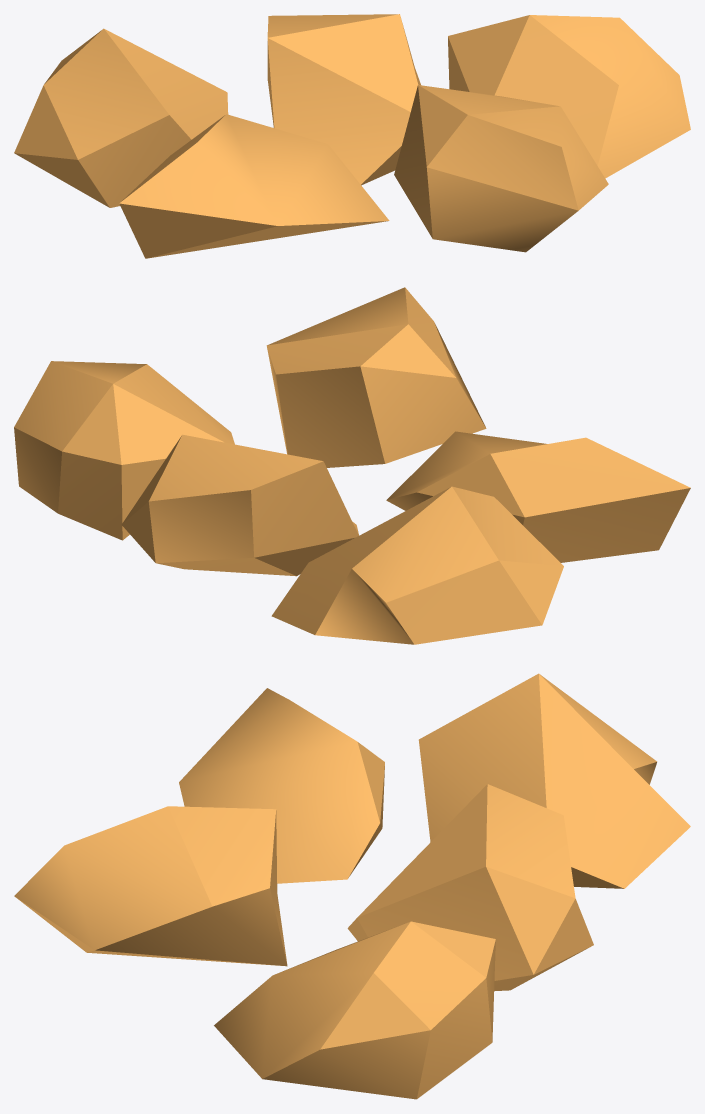
Rendered from collectable_ore.fbx.
The picture shows the model from 3 angles, top to bottom: view 1: azimuth 30°, elevation 25°; view 2: azimuth 150°, elevation 25°; view 3: azimuth 270°, elevation 25°; orthographic projection. The views are drawn at different scales.
Visible parts, largest first — view 1: Copper Ore Visual; view 2: Copper Ore Visual; view 3: Copper Ore Visual.
Boxes of the visible parts, x1=… form: Copper Ore Visual: x1=14, y1=14, x2=690, y2=258; Copper Ore Visual: x1=14, y1=287, x2=690, y2=644; Copper Ore Visual: x1=14, y1=673, x2=690, y2=1099.
Size of the model in its own units: 80.81 by 20.65 by 70.88.
